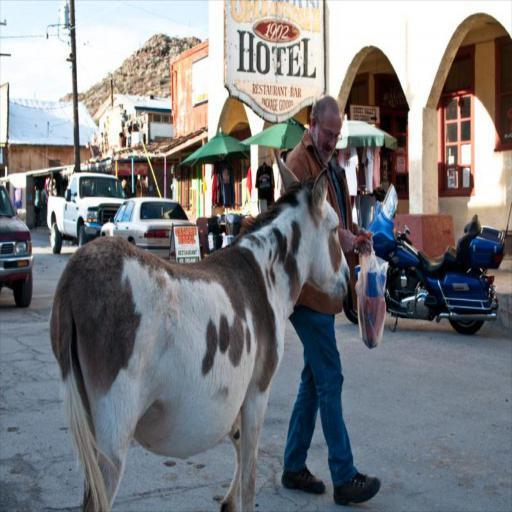horse: (48, 153, 352, 511)
